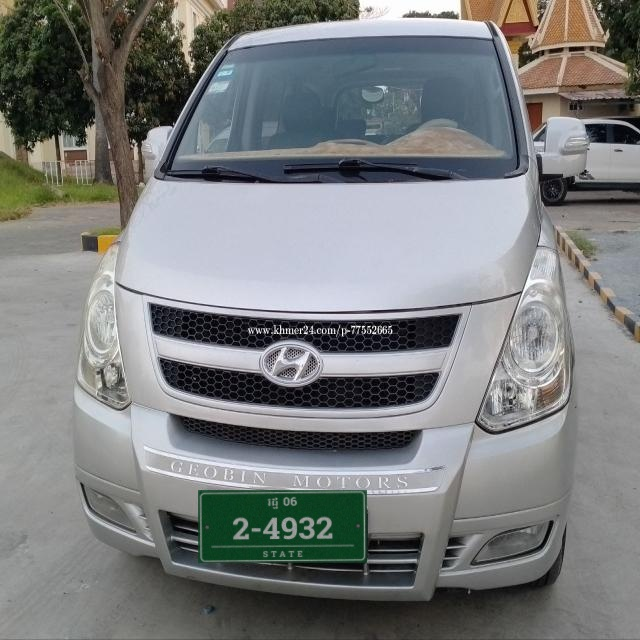Plate Number: (198, 490, 368, 563)
